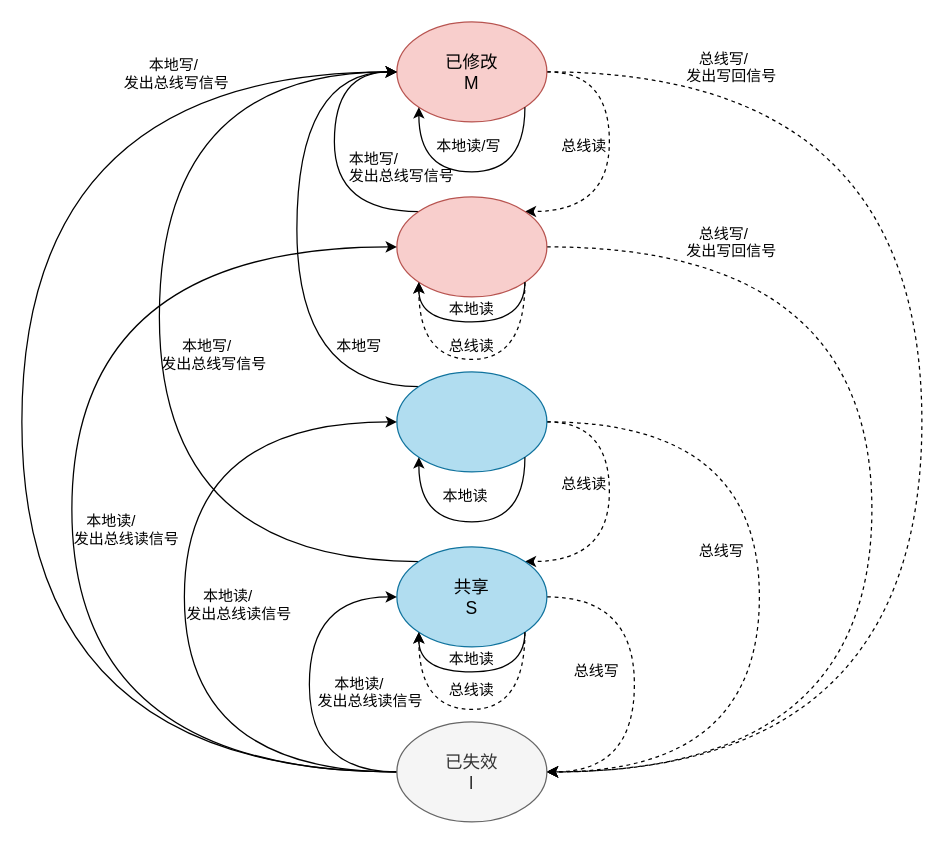
Image size: 944x844. Some labels were removed from this diagram. The shapes that lost their labels are listed below. From the top down, each one's centre as x and y in pixels, then its label:
At pixel 471 246: "修改且共享 MS".
At pixel 471 421: "独占 E".
